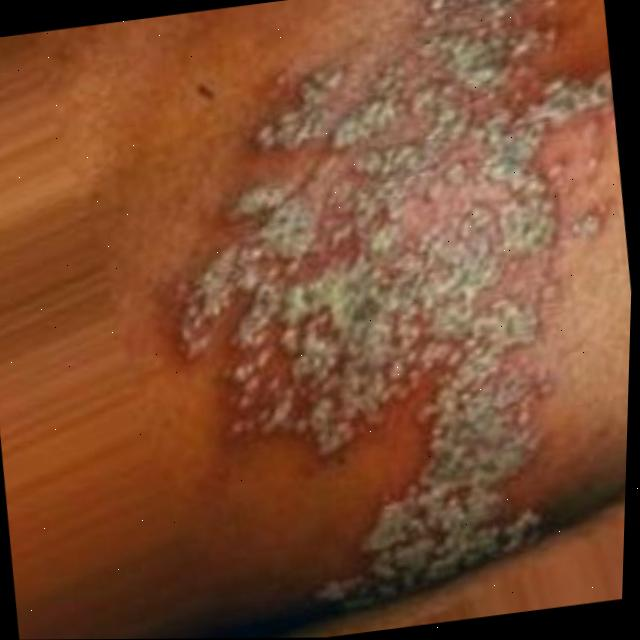Shingles: (143, 0, 640, 622)
